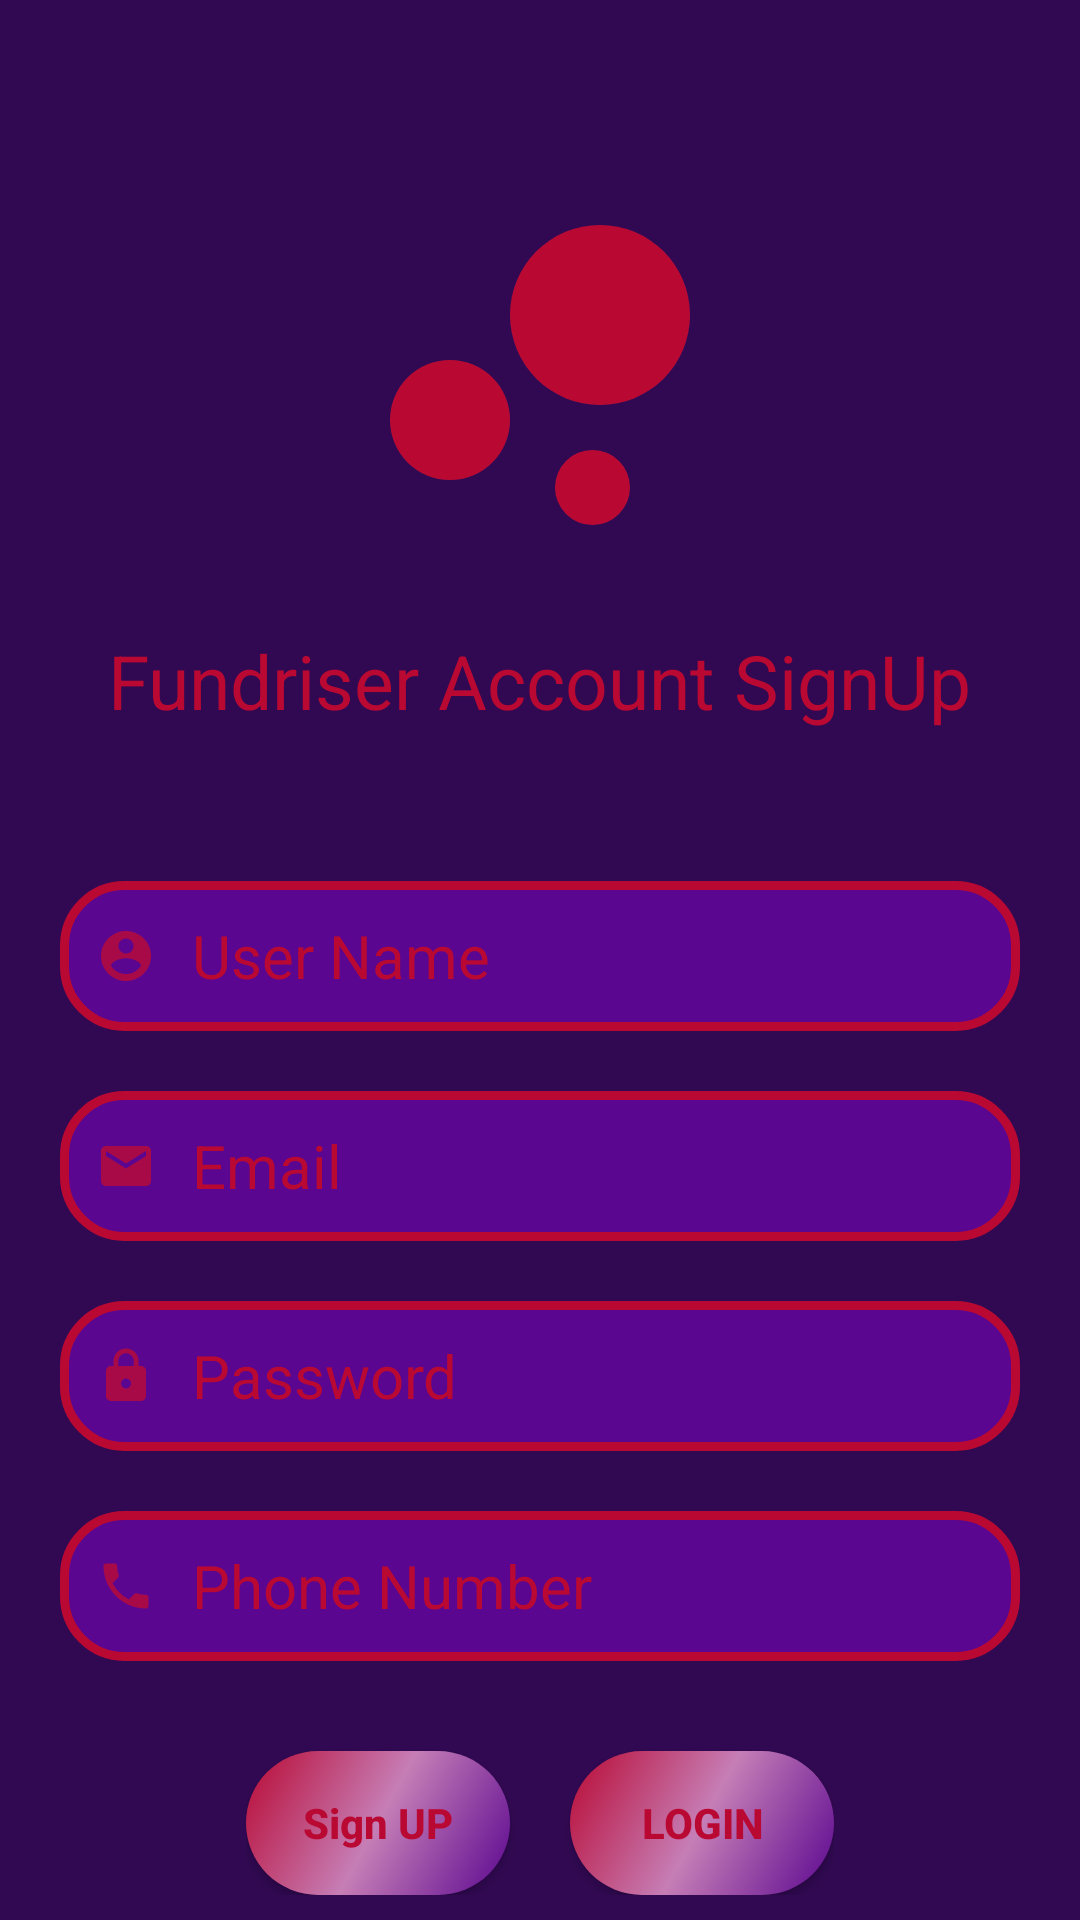

Where icons sit on this 1080px x 1920px app screen, as bbox=[x1, y1, x2, y2]:
bubble chart: bbox=[390, 225, 690, 525]
